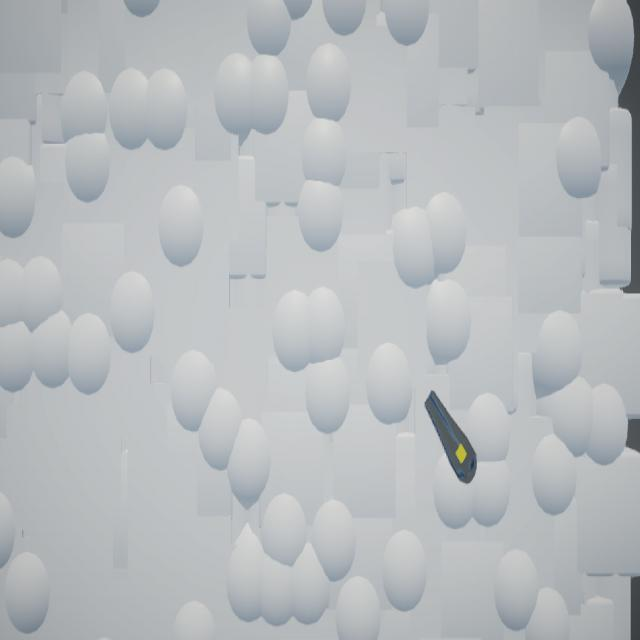handle_knife: (425, 391, 478, 485)
